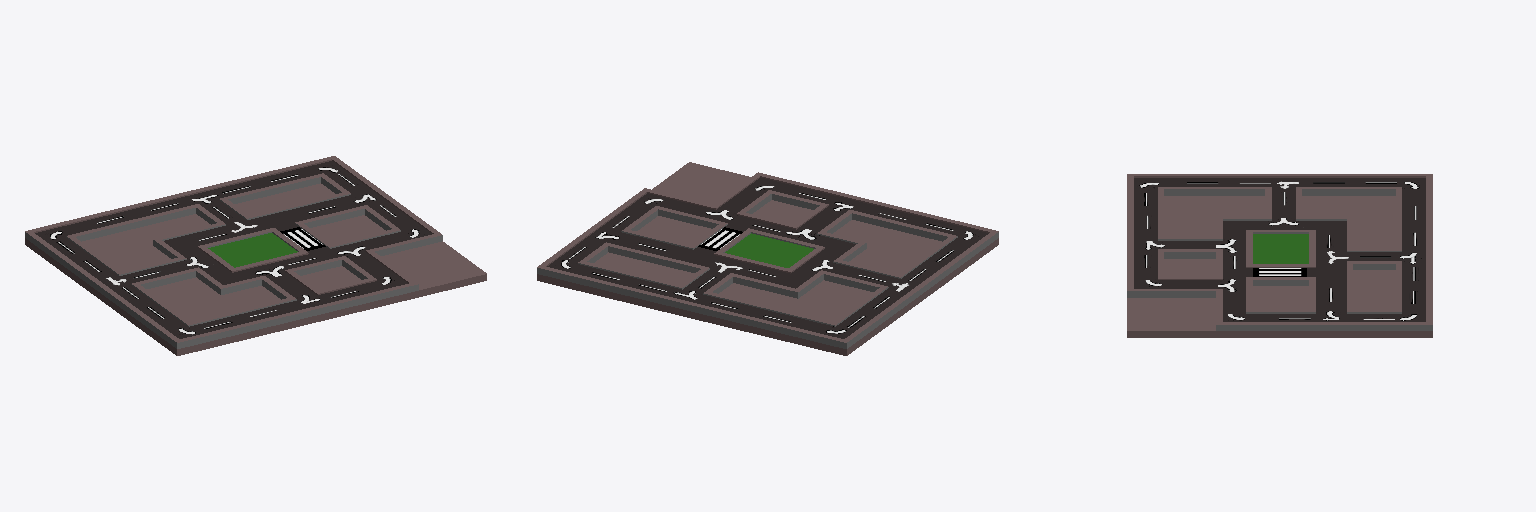
3 renders of one model, left to right at view 1: azimuth 30°, elevation 25°; view 2: azimuth 150°, elevation 25°; view 3: azimuth 270°, elevation 25°, orthographic.
Parts seen in each view (by area): view 1: ciudad_pCylinder32polySurface36, ciudad_pCylinder32polySurface37; view 2: ciudad_pCylinder32polySurface36, ciudad_pCylinder32polySurface37; view 3: ciudad_pCylinder32polySurface36, ciudad_pCylinder32polySurface37.
Part boxes in pixels (bbox=[...]): ciudad_pCylinder32polySurface36: bbox=[25, 156, 442, 348]; ciudad_pCylinder32polySurface37: bbox=[25, 183, 486, 355]; ciudad_pCylinder32polySurface36: bbox=[537, 172, 998, 348]; ciudad_pCylinder32polySurface37: bbox=[537, 162, 998, 355]; ciudad_pCylinder32polySurface36: bbox=[1127, 174, 1432, 330]; ciudad_pCylinder32polySurface37: bbox=[1127, 196, 1432, 337].
Size of the model in its own units: 90.69 by 3.72 by 77.43.
Materials: 4 (2 with a texture image).